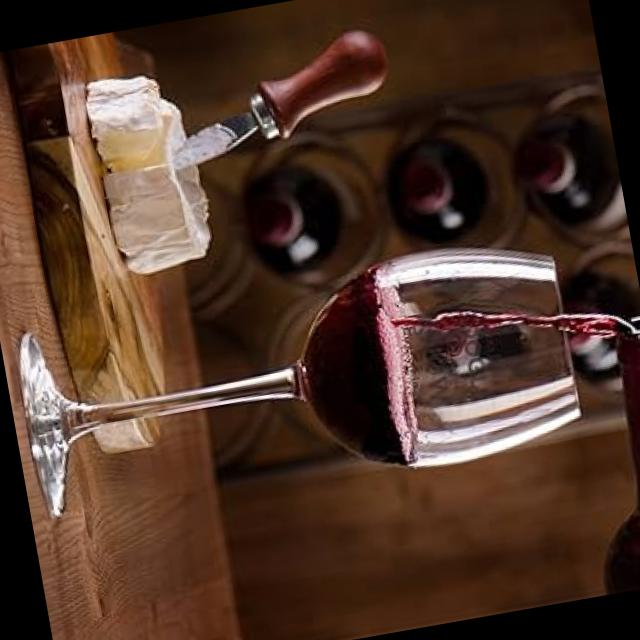glass: (4, 219, 636, 542)
